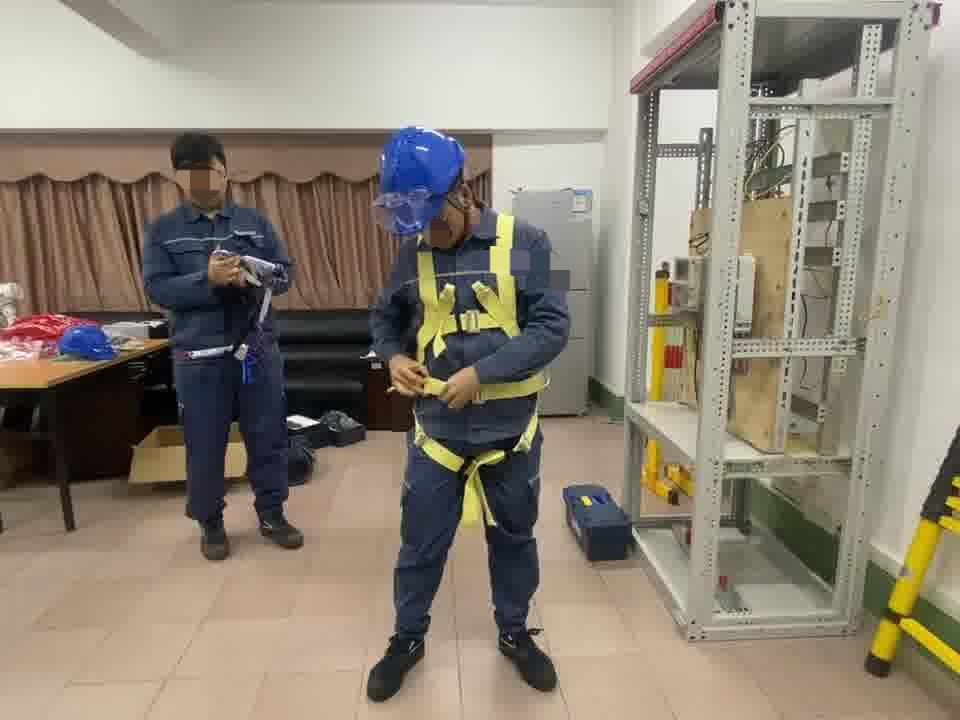halt: (379, 128, 472, 241)
inear: (449, 181, 483, 223)
unhalt: (172, 134, 234, 207)
